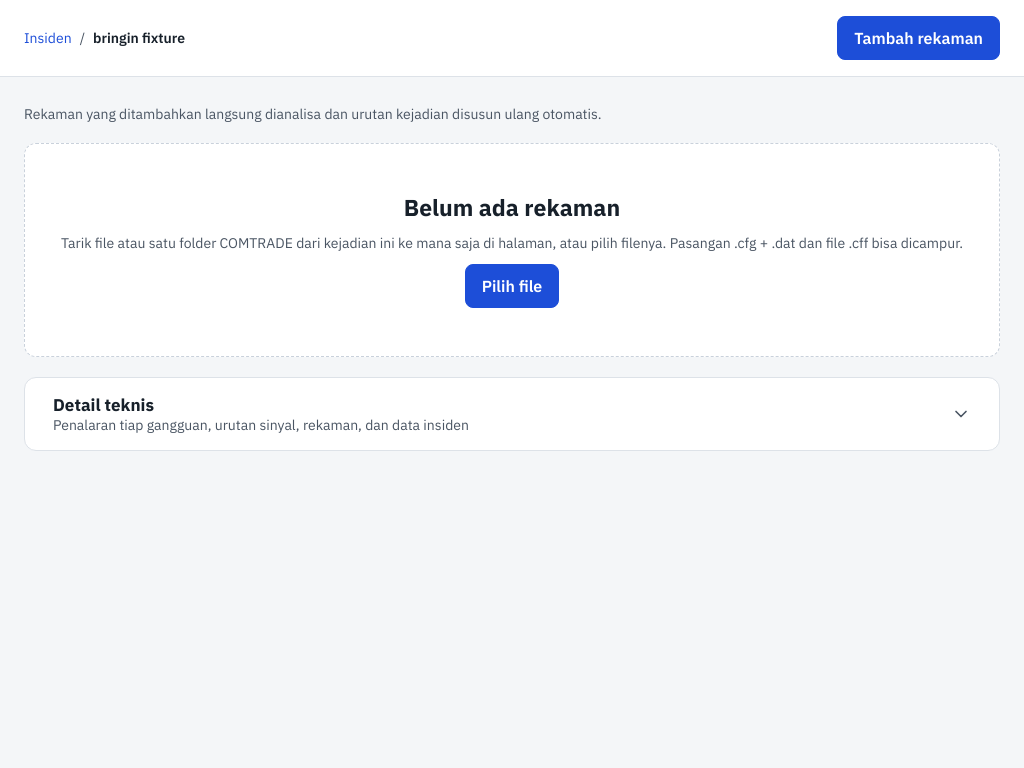
Scenario: IncidentWorkspace › asks for files when the incident has no records
Expected: the heading "Belum ada rekaman" is shown, [404,192,620,222]
What coordinates should you click on to do the following:
click the button "Pilih file"
I would click on:
 (512, 286)
Its box is [465,264,559,308].
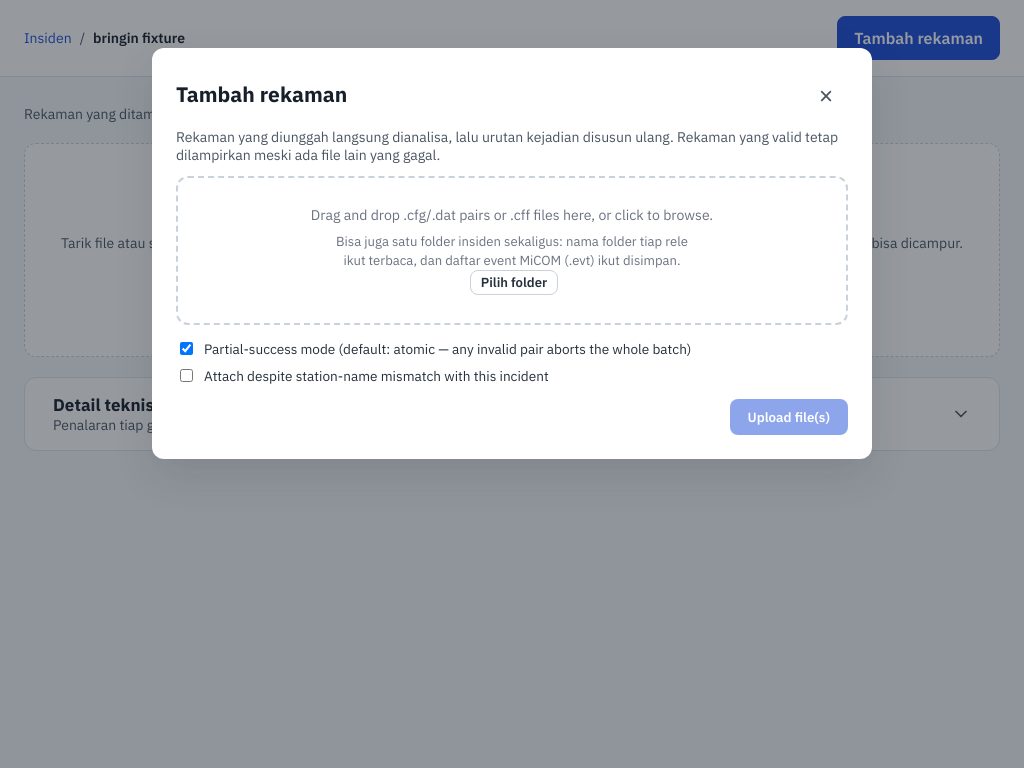
Expected: the dialog "Tambah rekaman" is shown, [152,48,872,459]
